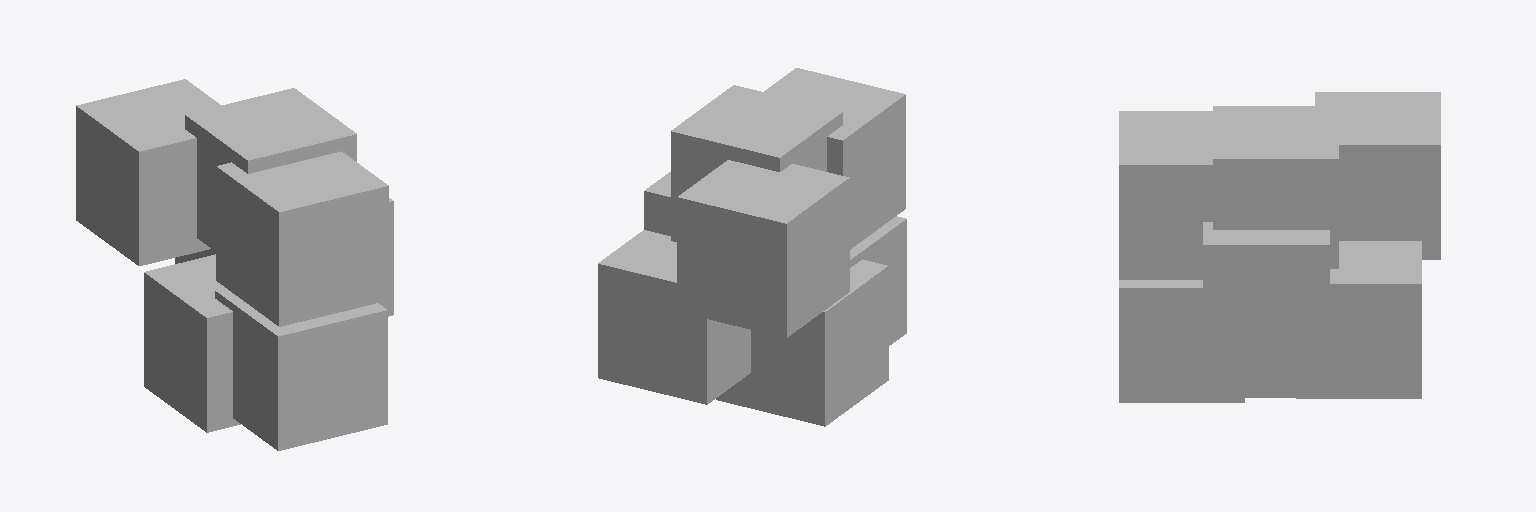
The model's file is iron.obj.
The picture shows the model from 3 angles: view 1: azimuth 30°, elevation 25°; view 2: azimuth 150°, elevation 25°; view 3: azimuth 270°, elevation 25°; orthographic projection.
Parts seen in each view (by area): view 1: Iron; view 2: Iron; view 3: Iron.
Boxes of the visible parts, <box> form: Iron: <box>76,79,393,450</box>; Iron: <box>598,68,906,426</box>; Iron: <box>1119,92,1440,402</box>.
Bounding box in the file's own units: 3.63 × 4.54 × 5.11.